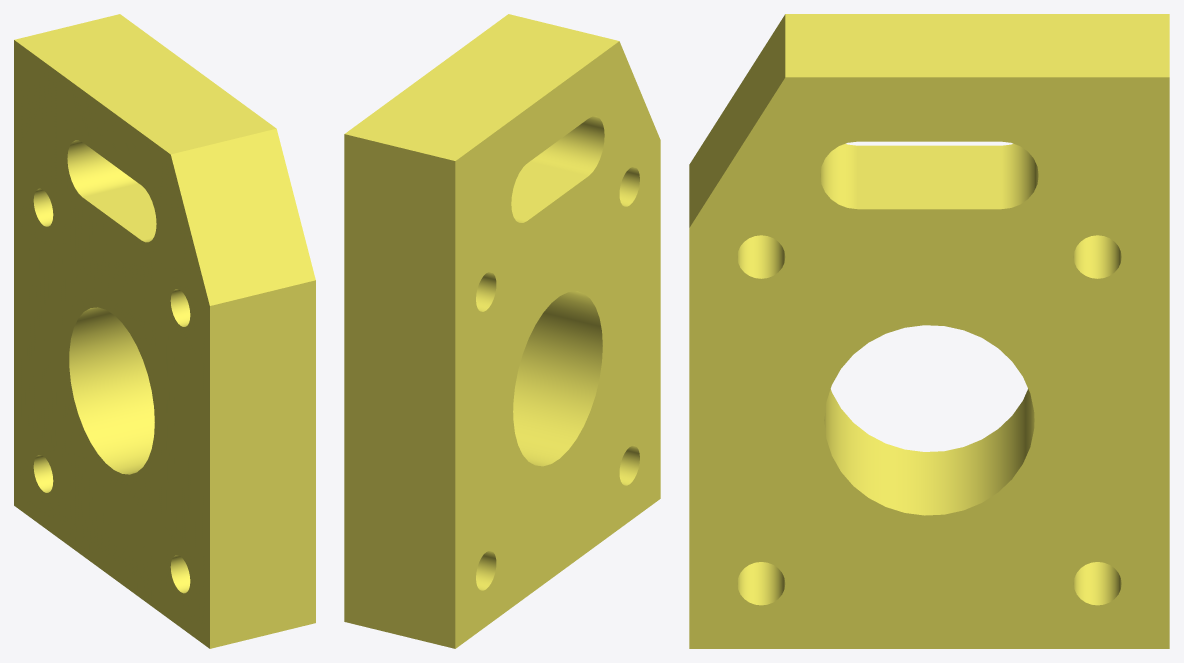
3 renders of one model, left to right at view 1: azimuth 30°, elevation 25°; view 2: azimuth 150°, elevation 25°; view 3: azimuth 270°, elevation 25°, orthographic. The views are drawn at different scales.
Parts seen in each view (by area): view 1: 930; view 2: 930; view 3: 930.
Part boxes in pixels (<box>): 930: <box>14,14,315,648</box>; 930: <box>344,14,660,648</box>; 930: <box>689,14,1169,648</box>.
Size of the model in its own units: 0.025 by 0.105 by 0.08.
